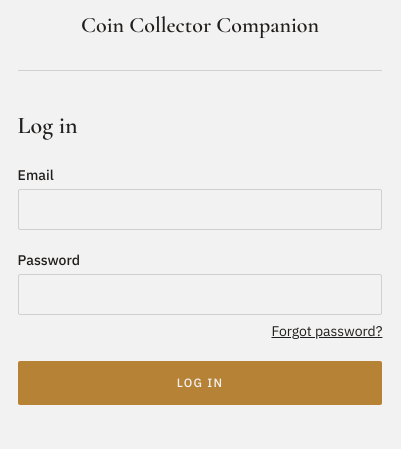
Test case: LoginPage › criterion 4: surfaces a rejected submission via lib/form-errors, not an unhandled exception › shows a field-level error when the ApiError detail matches a known field
Type "user@localhost" into the field with id "email" at (200, 210), box [18, 189, 382, 230]
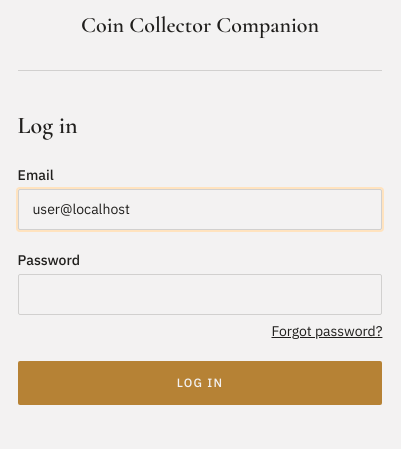
Type "password123" into the password field labelled "Password" at (200, 294), box [18, 274, 382, 315]
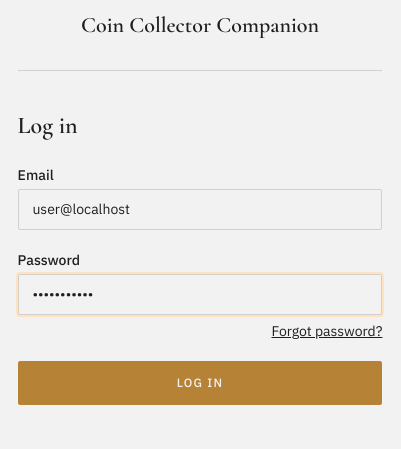
Click the button with test id "login-submit" at (200, 383), box [18, 361, 382, 405]
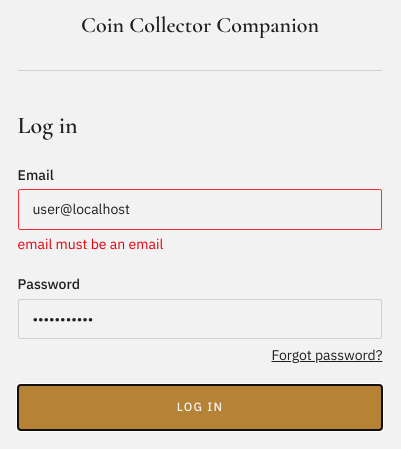
Result: the text with id "email-error" reads "email must be an email" at [18, 235, 163, 253]
